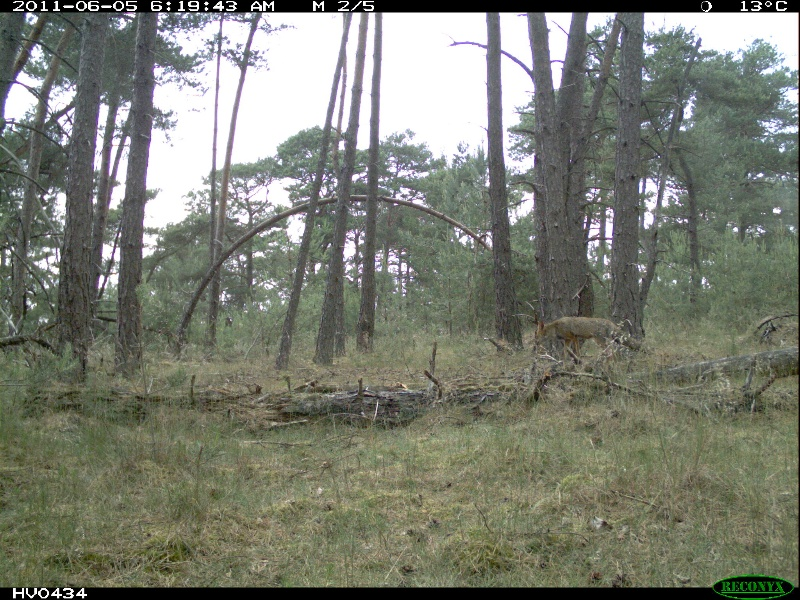fox: (526, 310, 654, 371)
